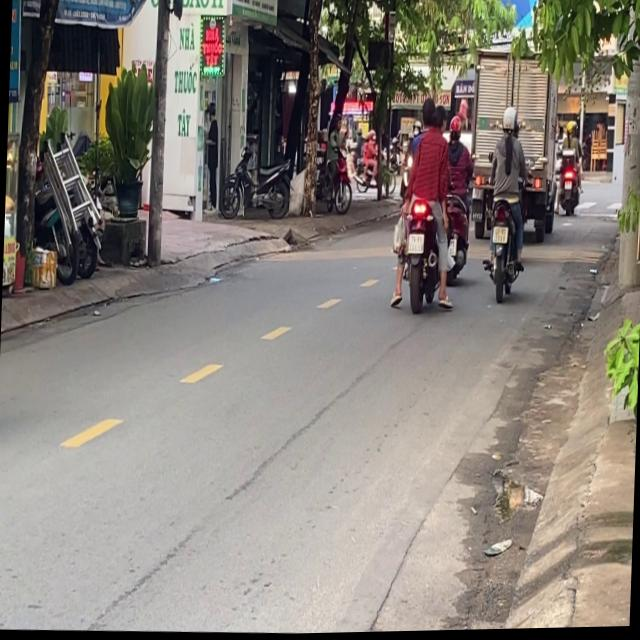helmet: (498, 106, 516, 136), (446, 115, 461, 142)
licenseplate: (386, 95, 452, 315), (480, 104, 530, 301), (437, 112, 473, 283)
motorcyclist: (418, 96, 437, 130)
nohelmet: (406, 233, 422, 254), (490, 225, 507, 243)
